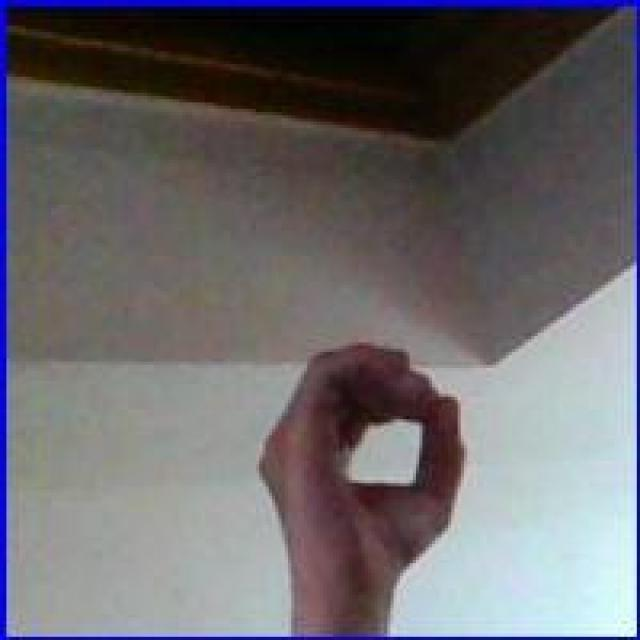O: (250, 338, 470, 574)
